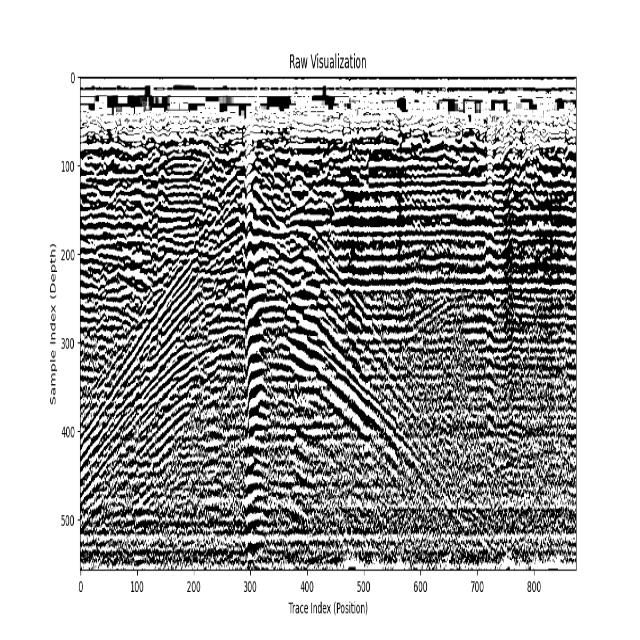anomaly: (83, 129, 523, 559), (246, 156, 266, 568)
